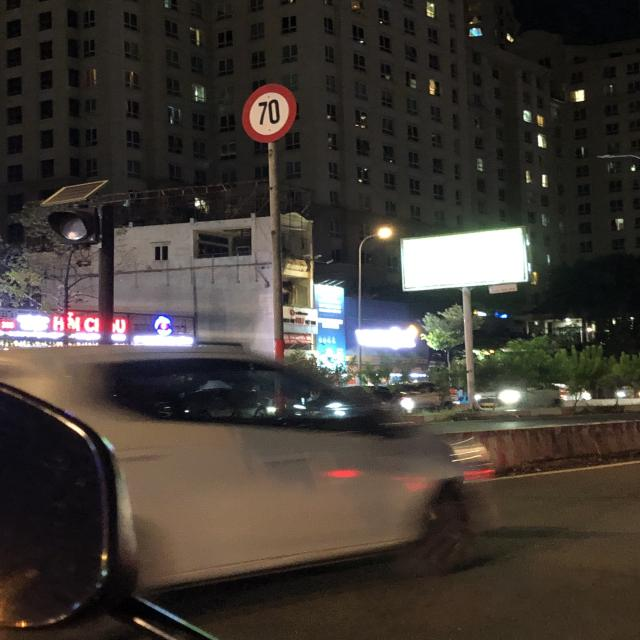Bien bao toc do toi da cho phep: (236, 81, 301, 142)
